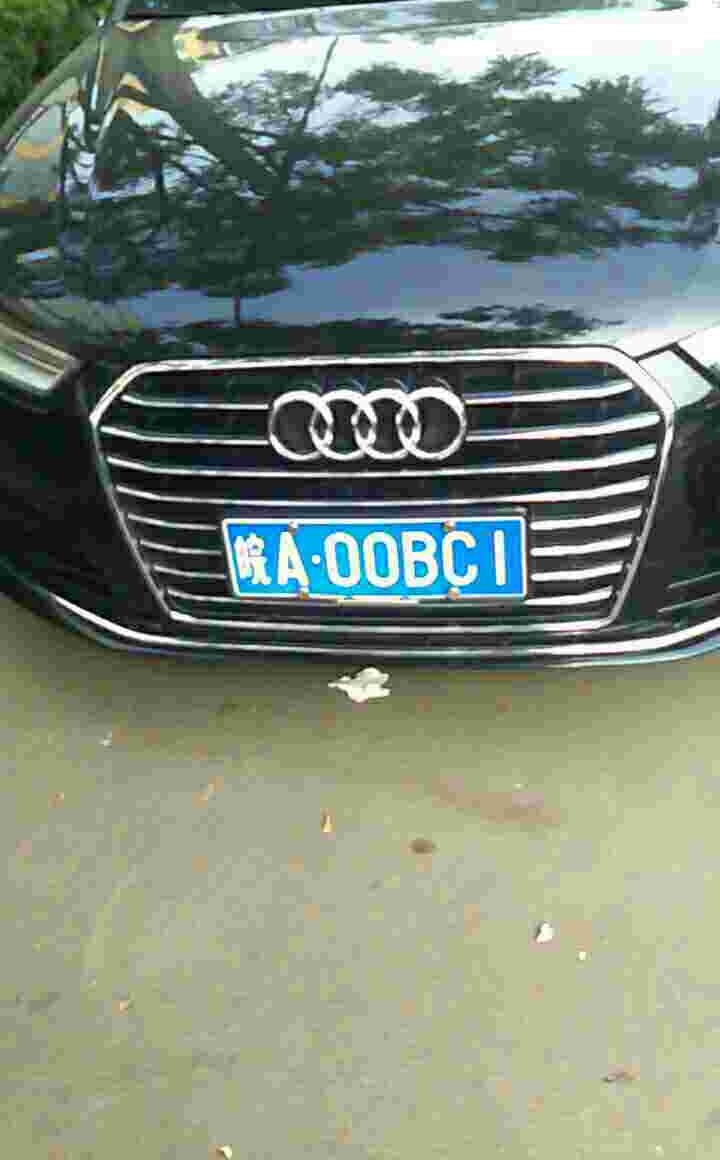car: (222, 516, 547, 609)
